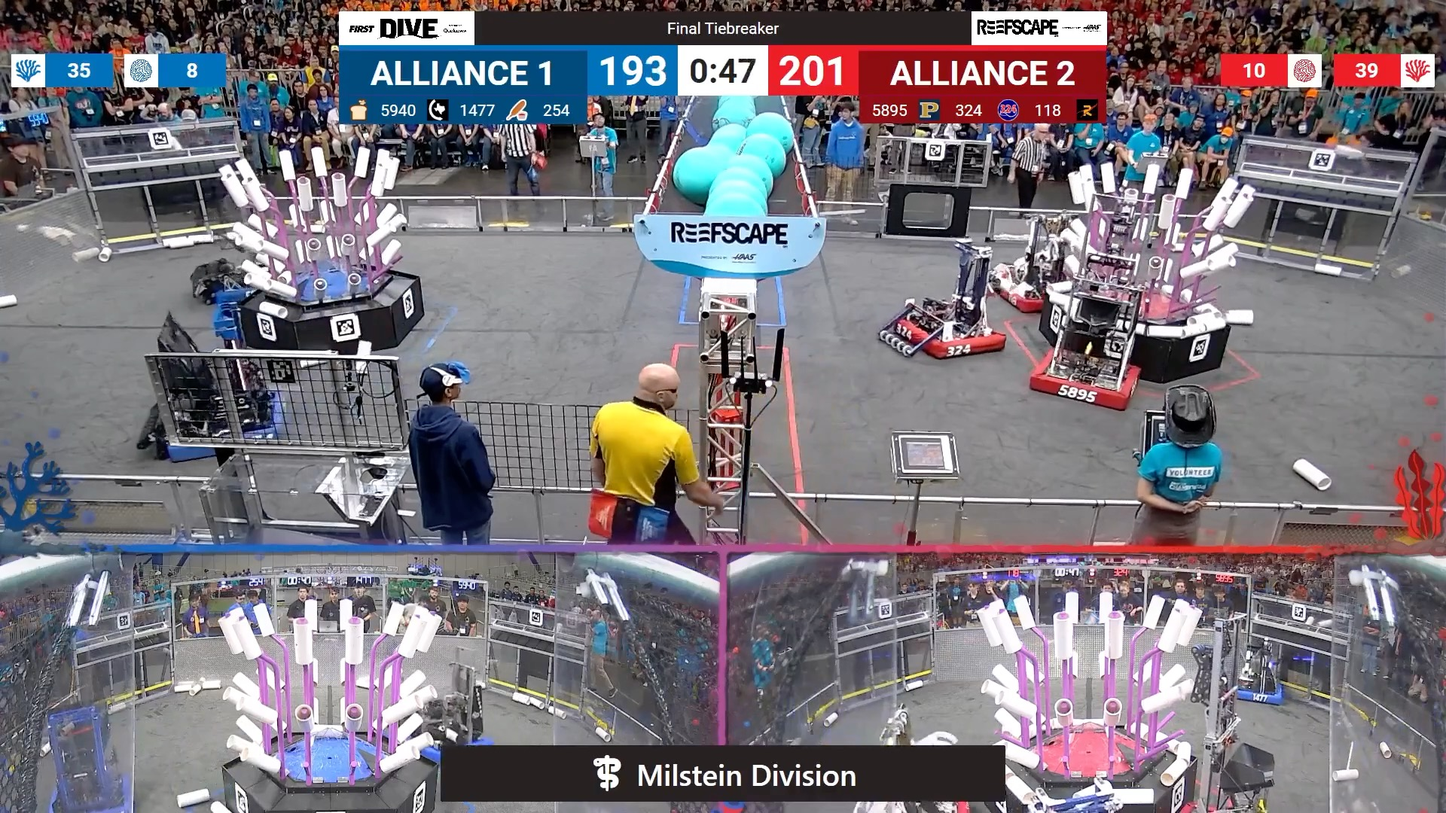bumpers: (157, 392, 298, 471), (882, 308, 1022, 368), (1024, 346, 1150, 412), (198, 263, 264, 310), (409, 731, 496, 765), (988, 284, 1070, 317), (1218, 680, 1289, 710)
